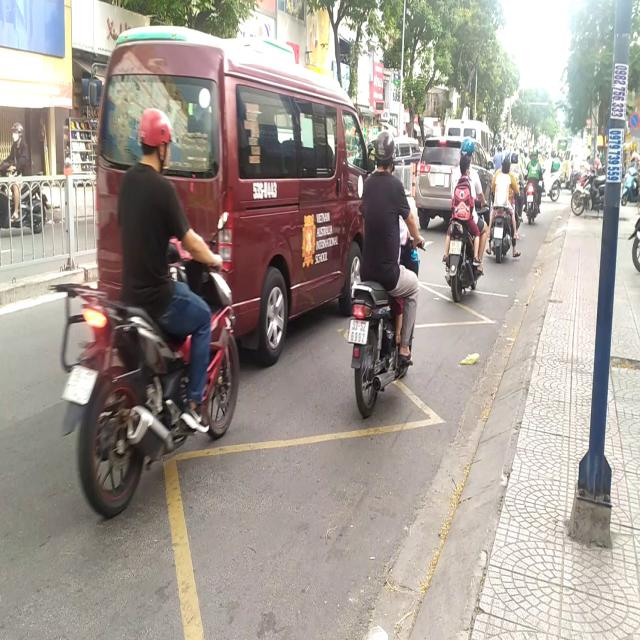bien_trang: (348, 310, 369, 352)
